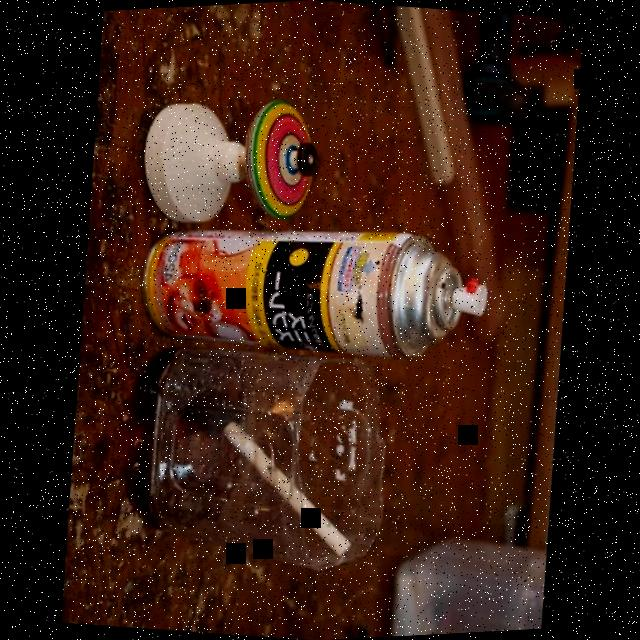chemical_spray_can: (140, 229, 485, 356)
